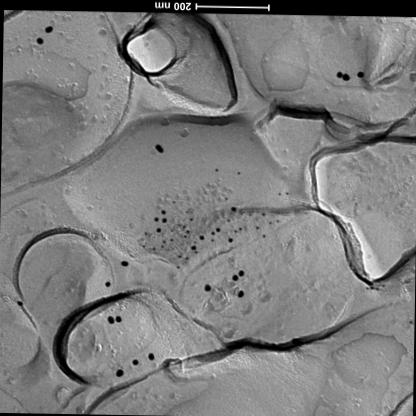6 nm Particle: (236, 226, 244, 232), (150, 246, 157, 252), (261, 233, 267, 240), (254, 224, 260, 231), (187, 216, 194, 222), (214, 166, 219, 174), (246, 212, 252, 218), (260, 212, 266, 218), (224, 196, 230, 202), (209, 237, 215, 243), (184, 228, 190, 234), (274, 218, 280, 224), (141, 231, 148, 236), (183, 209, 189, 214), (171, 200, 176, 206), (177, 254, 182, 260), (140, 244, 146, 249), (160, 239, 166, 244), (168, 228, 173, 234), (232, 228, 237, 234), (267, 220, 273, 225), (226, 218, 232, 223), (182, 223, 186, 230), (160, 244, 165, 249), (182, 233, 187, 238), (176, 264, 180, 270), (184, 255, 188, 261), (194, 251, 198, 255), (170, 237, 173, 242), (192, 241, 196, 244)
